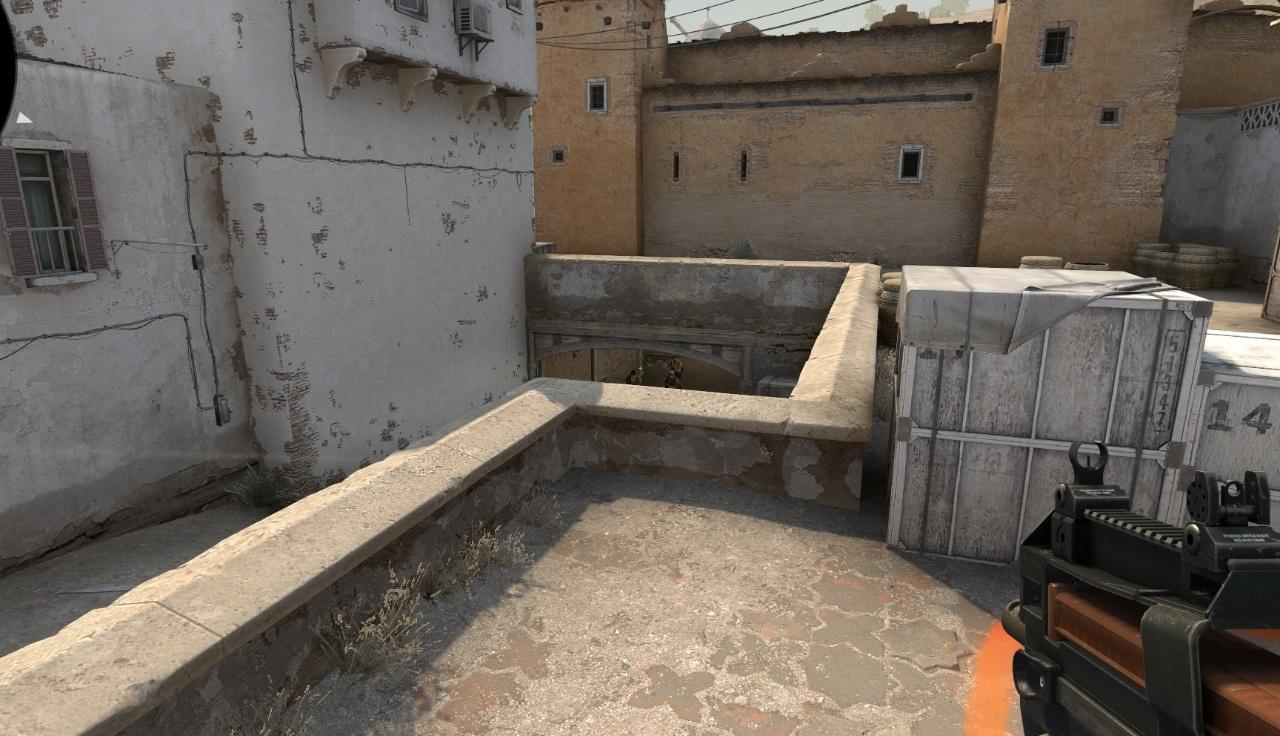rifle: (1017, 440, 1280, 736)
tt: (665, 371, 681, 389), (626, 370, 641, 386), (668, 356, 682, 371)
